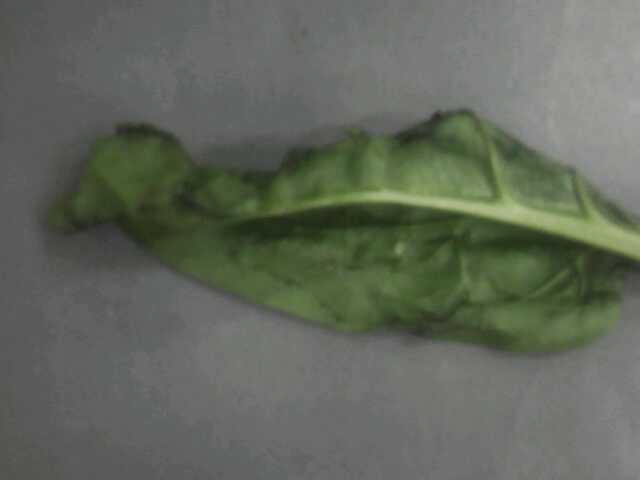yellow: (60, 95, 612, 355)
